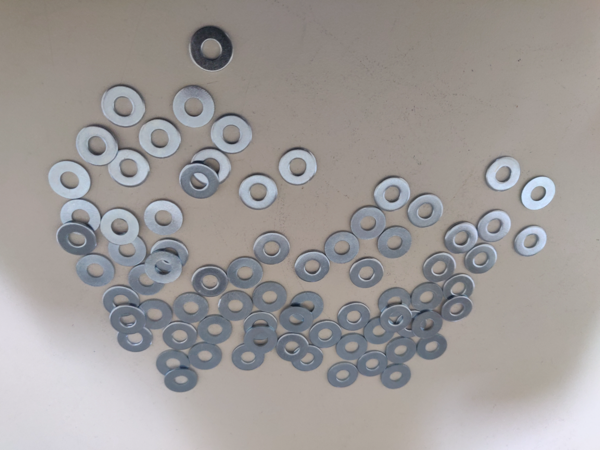circle: (189, 25, 234, 71), (103, 85, 146, 127), (211, 114, 254, 155), (173, 86, 215, 127), (77, 125, 118, 167), (49, 161, 92, 200), (139, 120, 182, 158), (108, 149, 150, 187), (278, 147, 318, 186), (99, 208, 139, 245), (180, 164, 221, 200), (61, 200, 101, 236), (56, 221, 98, 255), (192, 149, 231, 185), (239, 175, 279, 210), (150, 238, 190, 273), (145, 200, 183, 236), (324, 230, 361, 265), (254, 232, 292, 266), (486, 156, 521, 192), (145, 251, 183, 284), (192, 265, 230, 298), (375, 177, 410, 212), (408, 193, 443, 228), (111, 233, 147, 267), (351, 206, 387, 240), (377, 225, 413, 259), (228, 256, 265, 289), (77, 255, 115, 287), (294, 251, 332, 283), (103, 286, 142, 317), (173, 292, 210, 324), (522, 176, 556, 210), (350, 257, 385, 290), (477, 211, 512, 243), (379, 287, 414, 319), (130, 264, 166, 295), (252, 281, 288, 312), (445, 222, 479, 254), (138, 299, 173, 330), (199, 314, 234, 345), (164, 321, 198, 352), (513, 226, 547, 257), (338, 301, 372, 332), (463, 244, 498, 274), (231, 341, 266, 371), (290, 292, 325, 322), (396, 307, 428, 339), (411, 282, 444, 313), (309, 319, 343, 349), (111, 305, 146, 334), (117, 324, 152, 353), (188, 342, 223, 371), (364, 315, 396, 346), (423, 253, 456, 283), (380, 303, 413, 333), (243, 312, 278, 340), (156, 350, 190, 378), (279, 305, 313, 333), (413, 310, 444, 340), (386, 335, 418, 364), (244, 327, 278, 354), (275, 334, 309, 361), (336, 333, 368, 361), (444, 274, 476, 302), (443, 295, 474, 323), (291, 345, 323, 372), (417, 333, 448, 360), (165, 368, 198, 393), (328, 361, 358, 388), (382, 363, 412, 390), (358, 351, 388, 377)
